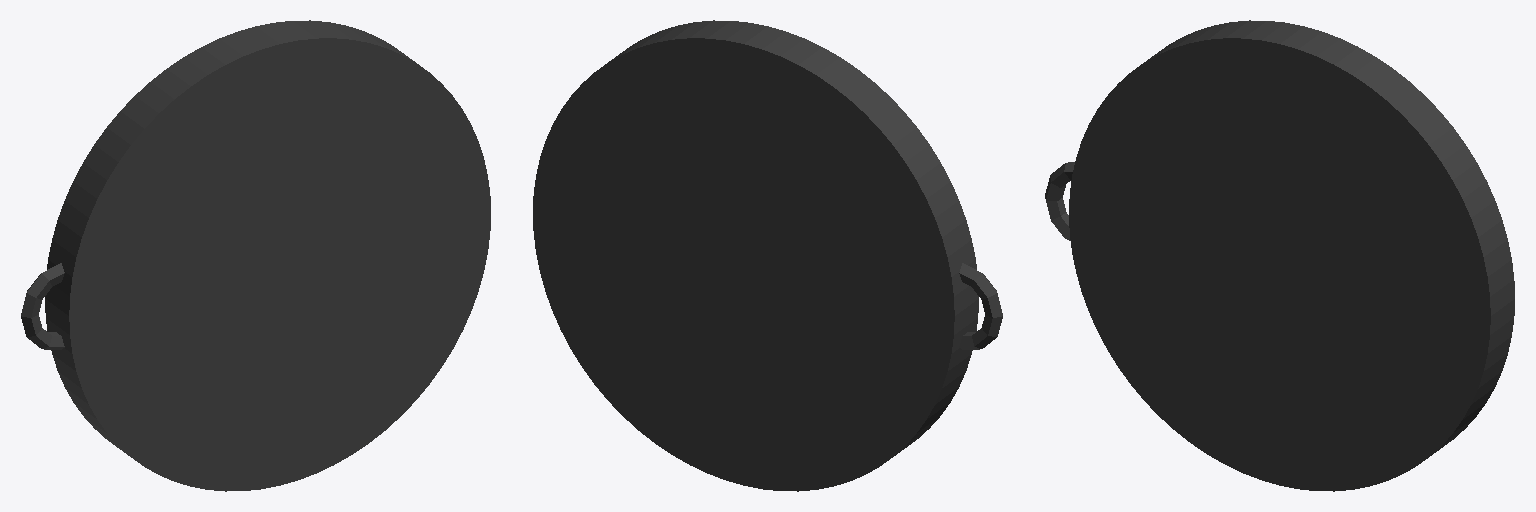
The robot description file, URDF, robot "pan":
<?xml version="0.0" ?>
<robot name="pan">
  <link name="base_link">
  <contact>
      <lateral_friction value="0.98"/>
      <rolling_friction value="0.001"/>
      <spinning_friction value="0.01"/>
  </contact>
    <inertial>
      <origin rpy="0 0 0" xyz="0 0 0"/>
       <mass value="5.0"/>
       <inertia ixx="0.001" ixy="0" ixz="0" iyy="0.001" iyz="0" izz="0.001"/>
    </inertial>
    <visual>
      <origin rpy="0 0 0" xyz="0 0 0"/>
      <geometry>
				<mesh filename="pan.obj" scale="0.0008 0.0008 0.0008"/>
      </geometry>
       <material name="grayish">
        <color rgba="0.3 0.3 0.3 1"/>
      </material>
    </visual>
    <collision>
      <origin rpy="0 0 0" xyz="0 0 0"/>
      <geometry>
				<mesh filename="pan.obj" scale="0.0008 0.0008 0.0008"/>
      </geometry>
    </collision>
  </link>
</robot>

--- What the picture shows (computed from the rendered views, not written in the file) ---
3 views of the same robot in one strip: view 1: azimuth 30°, elevation 25°; view 2: azimuth 150°, elevation 25°; view 3: azimuth 330°, elevation 25° (orthographic).
Model pan with 1 links and 0 joints (none), rooted at base_link, posed all joints at 0.
Links seen in each view (by area): view 1: base_link; view 2: base_link; view 3: base_link.
Link boxes in pixels (x1,y1,x2,y2): base_link: (21, 20, 490, 491); base_link: (533, 20, 1002, 491); base_link: (1045, 20, 1514, 491).
Bounding box of the posed robot: 0.4344 × 0.04 × 0.4 m (x, y, z).
Meshes: 1 distinct files referenced, 1 mesh visuals loaded (1 OBJ).
